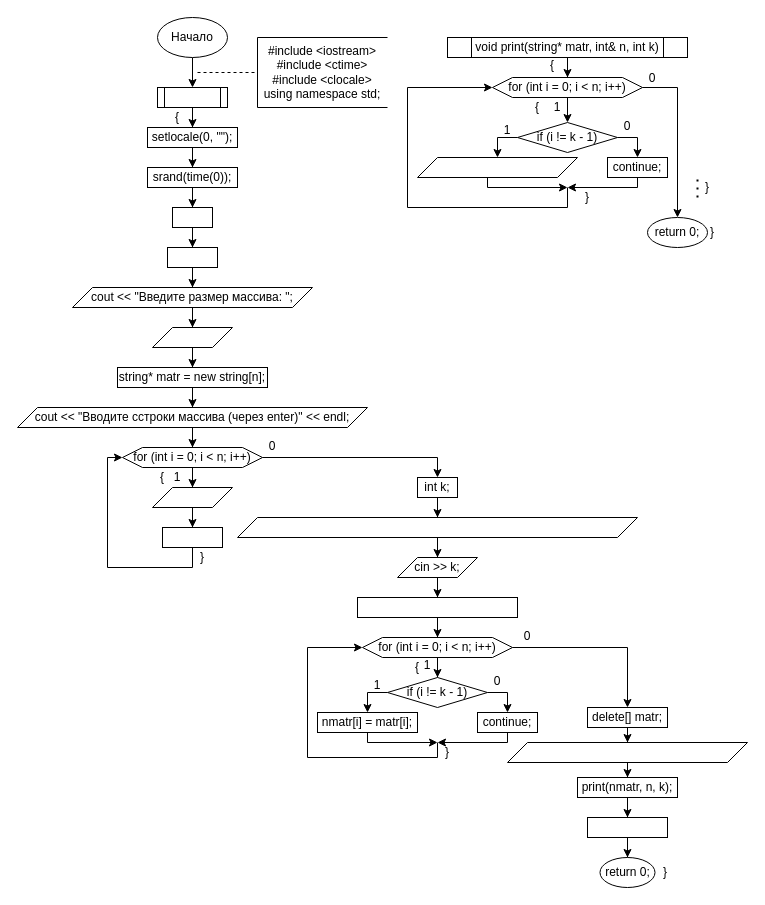
The diagram is 765 pixels wide and 905 high, and some of its shapes have lost their labels. The shapes that lost their labels are listed below. From the top down, each one's centre as x and y in pixels, then its label:
(192,97): int main()
(497,167): cout << matr[i] << endl;
(192,217): int n;
(192,257): string s;
(192,337): cin >> n;
(192,497): cin >> s;
(192,537): matr[i] = s;
(437,527): cout << "Введите номер строки, который необходимо удалить: ";
(437,607): string* nmatr = new string[n];
(627,752): cout << "Конечная матрица:" << endl;
(627,827): delete[] nmatr;
